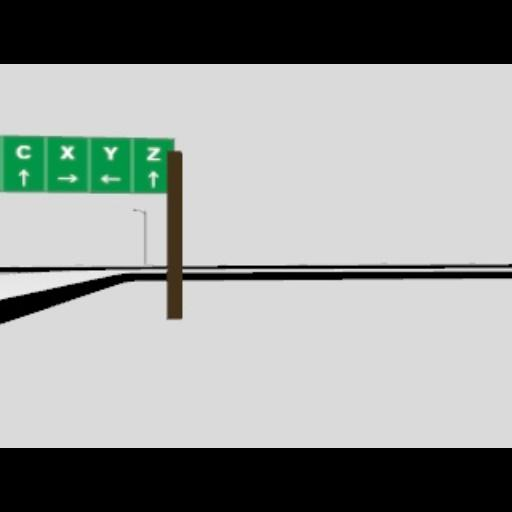C: (14, 144, 32, 158)
Left: (99, 172, 121, 184)
Right: (56, 173, 78, 183)
Straight: (148, 169, 158, 187), (18, 168, 28, 186)
X: (59, 144, 73, 158)
Y: (102, 146, 118, 160)
Z: (146, 146, 160, 160)
